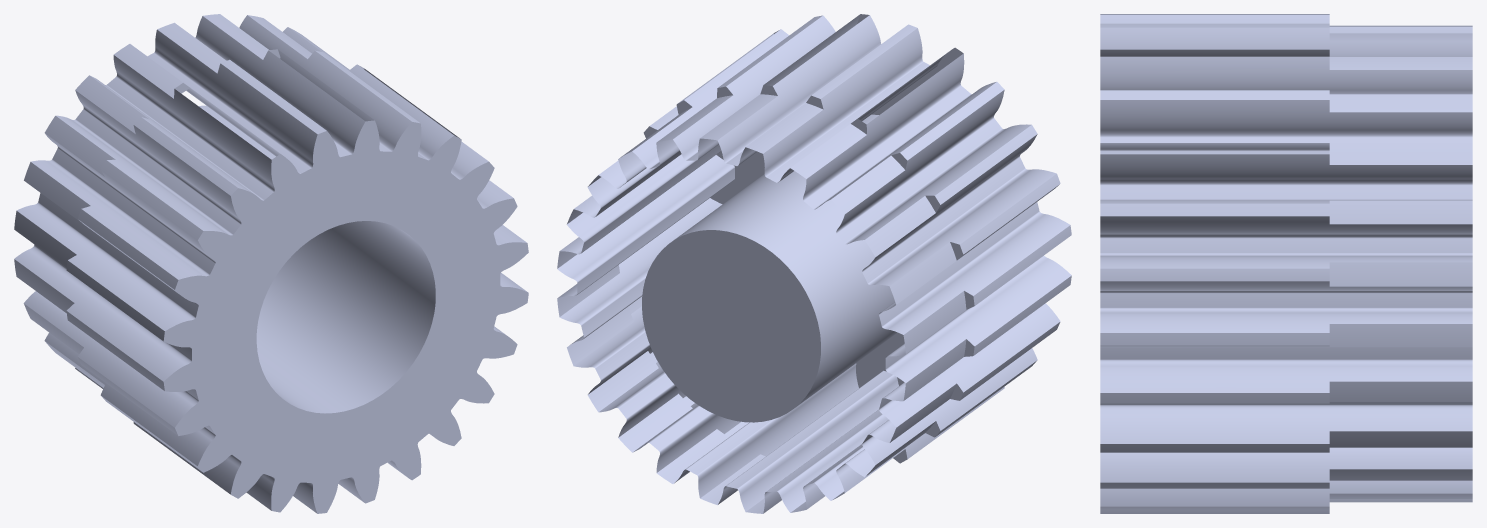
The model's file is MAXPlanetary_3_Stage_STEP_1_REV_21_2102_STEP_1_surface1.obj.
3 views of the same model, side by side, from view 1: azimuth 30°, elevation 25°; view 2: azimuth 150°, elevation 25°; view 3: azimuth 270°, elevation 25° (orthographic). The views are drawn at different scales.
Visible parts, largest first — view 1: mesh23164, mesh23163, mesh23262, mesh23300, mesh23243, mesh23192, mesh23162, mesh23267, mesh23304, mesh23257, mesh23238, mesh23248 (+32 smaller); view 2: mesh23161, mesh23162, mesh23262, mesh23300, mesh23243, mesh23192, mesh23267, mesh23196, mesh23304, mesh23227, mesh23238, mesh23257 (+60 smaller); view 3: mesh23217, mesh23237, mesh23299, mesh23223, mesh23212, mesh23295, mesh23228, mesh23242, mesh23232, mesh23207, mesh23173, mesh23174 (+33 smaller).
Part boxes in pixels (left/top/right/bottom): mesh23164: left=163, top=120, right=528, bottom=513; mesh23163: left=256, top=229, right=434, bottom=413; mesh23262: left=14, top=245, right=191, bottom=381; mesh23300: left=195, top=16, right=365, bottom=154; mesh23243: left=154, top=29, right=317, bottom=168; mesh23192: left=16, top=202, right=195, bottom=330; mesh23162: left=199, top=105, right=435, bottom=307; mesh23267: left=24, top=291, right=198, bottom=427; mesh23304: left=113, top=55, right=274, bottom=192; mesh23257: left=31, top=159, right=209, bottom=279; mesh23238: left=239, top=15, right=411, bottom=151; mesh23248: left=75, top=90, right=241, bottom=224; mesh23161: left=642, top=230, right=820, bottom=422; mesh23162: left=672, top=114, right=887, bottom=335; mesh23262: left=885, top=256, right=1071, bottom=382; mesh23300: left=717, top=15, right=880, bottom=163; mesh23243: left=763, top=28, right=923, bottom=177; mesh23192: left=882, top=211, right=1069, bottom=334; mesh23267: left=879, top=303, right=1060, bottom=427; mesh23196: left=697, top=363, right=858, bottom=498; mesh23304: left=803, top=53, right=964, bottom=200; mesh23227: left=557, top=155, right=734, bottom=282; mesh23238: left=673, top=15, right=835, bottom=160; mesh23257: left=867, top=168, right=1056, bottom=285; mesh23217: left=1100, top=404, right=1472, bottom=443; mesh23237: left=1100, top=100, right=1472, bottom=137; mesh23299: left=1100, top=56, right=1472, bottom=94; mesh23223: left=1100, top=359, right=1472, bottom=392; mesh23212: left=1100, top=447, right=1472, bottom=482; mesh23295: left=1100, top=154, right=1472, bottom=185; mesh23228: left=1100, top=307, right=1472, bottom=332; mesh23242: left=1100, top=27, right=1472, bottom=56; mesh23232: left=1100, top=216, right=1472, bottom=238; mesh23207: left=1100, top=480, right=1472, bottom=506; mesh23173: left=1100, top=293, right=1472, bottom=307; mesh23174: left=1100, top=238, right=1472, bottom=252.
Size of the model in its own units: 0.0168 by 0.0168 by 0.0126.
